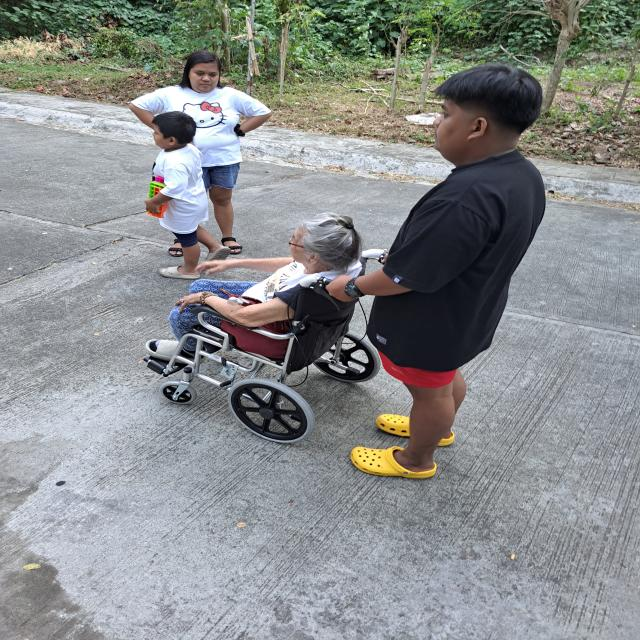wheelchairs: (140, 247, 387, 455)
